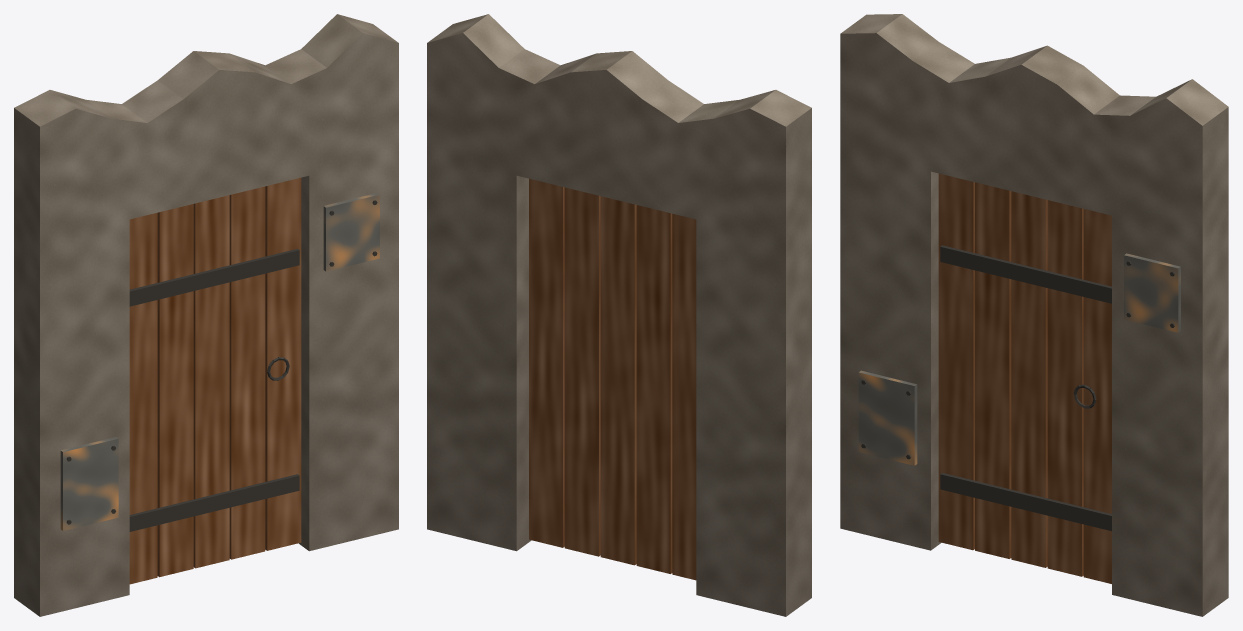
Rendered from wall_door_grey.glb.
The picture shows the model from 3 angles, left to right: view 1: azimuth 30°, elevation 25°; view 2: azimuth 150°, elevation 25°; view 3: azimuth 330°, elevation 25°; orthographic projection.
Visible parts, largest first — view 1: door, object 1, object 2, object 3, object 5, object 15, object 10, object 23, object 19, object 20, object 18, object 24 (+4 smaller); view 2: door, object 1, object 2, object 3, object 15, object 23, object 19, object 20, object 18, object 24, object 22, object 16 (+2 smaller); view 3: door, object 2, object 1, object 3, object 5, object 24, object 10, object 20, object 16, object 21, object 15, object 17 (+4 smaller).
Boxes of the visible parts, x1,y1,x2,y2 form: door: [129, 177, 301, 584]; object 1: [14, 144, 129, 616]; object 2: [299, 78, 398, 551]; object 3: [129, 100, 309, 219]; object 5: [60, 437, 118, 530]; object 15: [14, 90, 75, 165]; object 10: [323, 193, 379, 271]; object 23: [301, 14, 362, 95]; object 19: [158, 51, 219, 130]; object 20: [194, 51, 255, 122]; object 18: [122, 80, 183, 139]; object 24: [337, 14, 398, 87]; door: [529, 178, 696, 580]; object 1: [696, 144, 811, 616]; object 2: [427, 78, 531, 551]; object 3: [516, 100, 696, 219]; object 15: [750, 90, 811, 165]; object 23: [463, 14, 524, 95]; object 19: [606, 51, 667, 130]; object 20: [570, 51, 631, 122]; object 18: [642, 80, 703, 139]; object 24: [427, 14, 488, 87]; object 22: [499, 49, 560, 104]; object 16: [714, 90, 774, 157]; door: [938, 173, 1111, 583]; object 2: [1112, 140, 1228, 616]; object 1: [840, 73, 941, 550]; object 3: [931, 96, 1111, 215]; object 5: [858, 370, 917, 465]; object 24: [1166, 79, 1228, 161]; object 10: [1124, 253, 1180, 332]; object 20: [1021, 45, 1083, 126]; object 16: [876, 14, 938, 90]; object 21: [1057, 66, 1119, 135]; object 15: [840, 14, 901, 82]; object 17: [912, 42, 974, 99].
Size of the model in its own units: 2 by 2.69 by 0.283.
4 materials, 4 textured.
